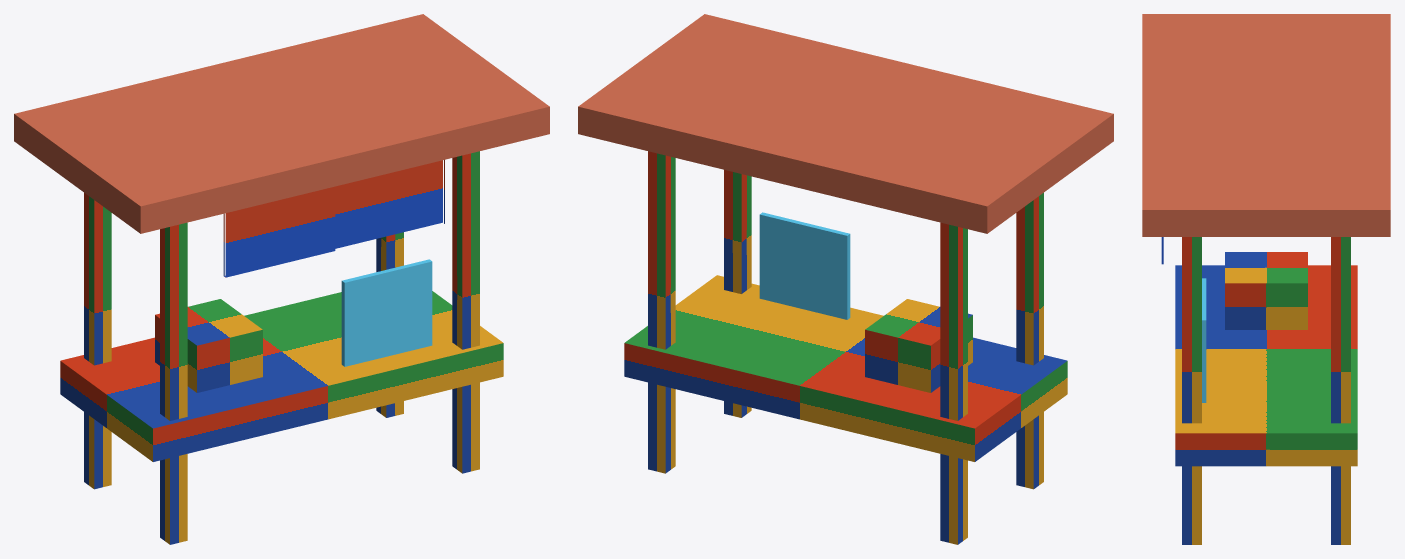
Rendered from market_stall_static.glb.
The picture shows the model from 3 angles, left to right: view 1: azimuth 30°, elevation 25°; view 2: azimuth 150°, elevation 25°; view 3: azimuth 270°, elevation 25°; orthographic projection.
Parts seen in each view (by area): view 1: awning, counter, post (×4), cutout-banner, glass-display, crate; view 2: awning, counter, post (×4), glass-display, crate; view 3: awning, counter, post (×2), crate, glass-display.
Boxes of the visible parts, x1=… form: awning: x1=14, y1=14, x2=549, y2=233; counter: x1=60, y1=291, x2=503, y2=461; post (×4): x1=84, y1=151, x2=479, y2=544; cutout-banner: x1=223, y1=160, x2=444, y2=277; glass-display: x1=341, y1=259, x2=432, y2=366; crate: x1=155, y1=299, x2=262, y2=392; awning: x1=578, y1=14, x2=1113, y2=233; counter: x1=624, y1=275, x2=1067, y2=461; post (×4): x1=648, y1=151, x2=1043, y2=544; glass-display: x1=759, y1=212, x2=850, y2=319; crate: x1=865, y1=299, x2=972, y2=392; awning: x1=1142, y1=14, x2=1390, y2=236; counter: x1=1175, y1=265, x2=1357, y2=466; post (×2): x1=1182, y1=237, x2=1350, y2=544; crate: x1=1225, y1=252, x2=1307, y2=329; glass-display: x1=1202, y1=278, x2=1206, y2=402.
Bounding box in the file's own units: 2.8 × 2.39 × 1.5.
4 materials, 2 textured.
